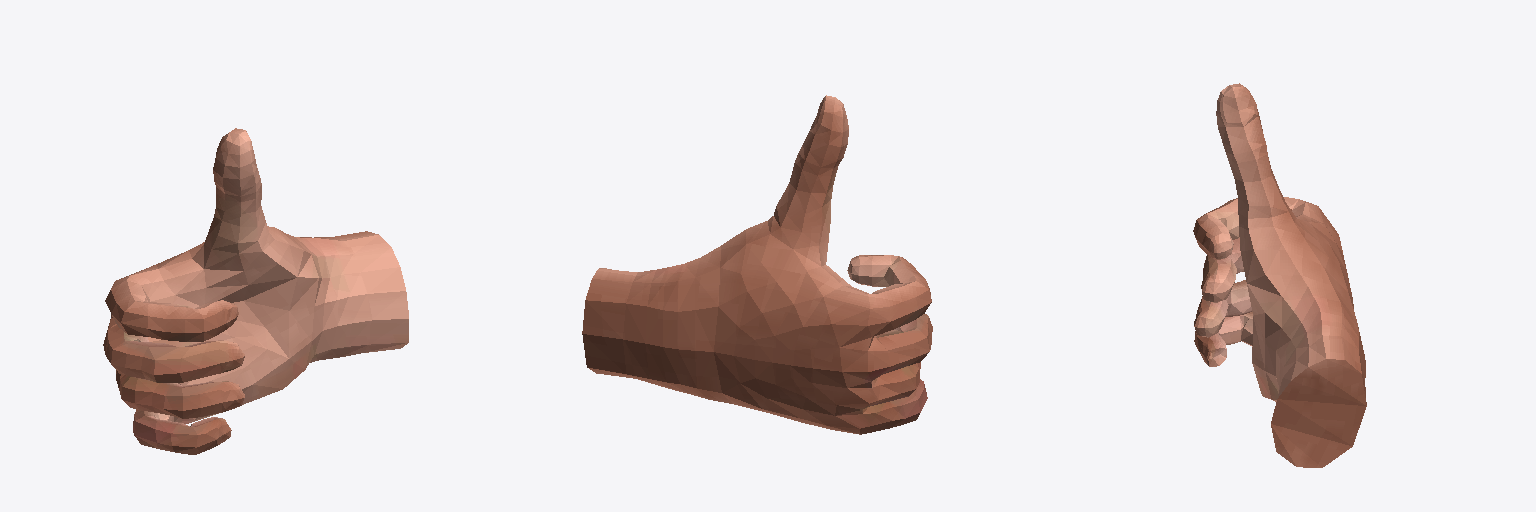
3 views of the same model, side by side, from view 1: azimuth 30°, elevation 25°; view 2: azimuth 150°, elevation 25°; view 3: azimuth 270°, elevation 25° (orthographic).
Parts seen in each view (by area): view 1: pasted__pasted__polySurface8; view 2: pasted__pasted__polySurface8; view 3: pasted__pasted__polySurface8.
Part boxes in pixels (x1,y1,x2,y2): pasted__pasted__polySurface8: (103,128,408,454); pasted__pasted__polySurface8: (582,95,932,434); pasted__pasted__polySurface8: (1193,83,1366,467).
Size of the model in its own units: 8.83 by 8.34 by 4.32.
Materials: 1 (1 with a texture image).